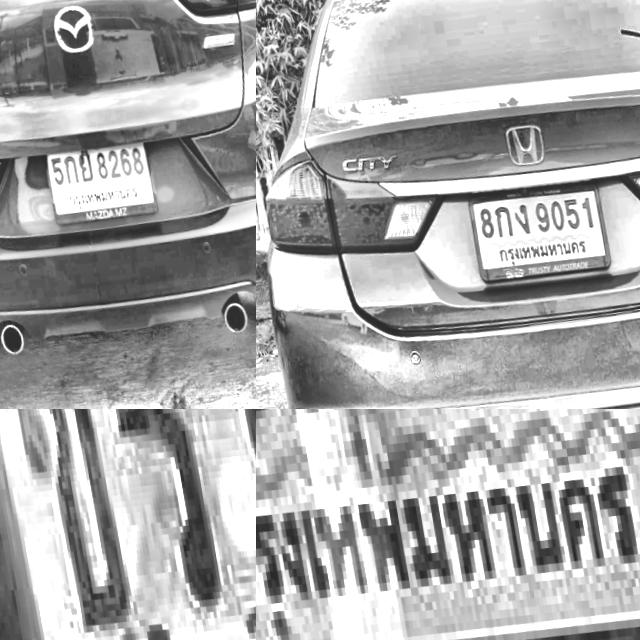license-plate: (256, 409, 640, 640), (0, 409, 256, 640), (464, 167, 611, 286), (36, 125, 161, 226)
